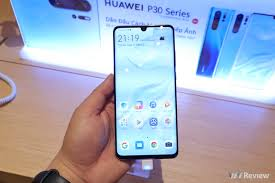huawei: (111, 22, 181, 161)
